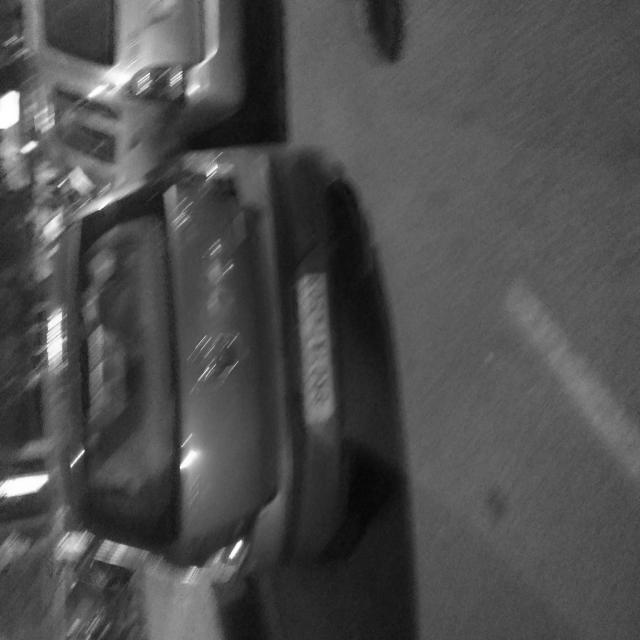car: (40, 62, 388, 504)
license-plate: (164, 390, 270, 449)
